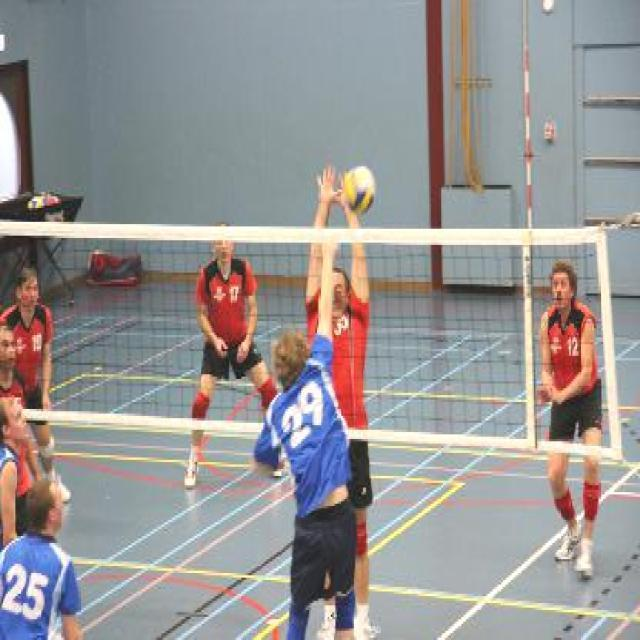volleyball: (343, 167, 375, 216)
